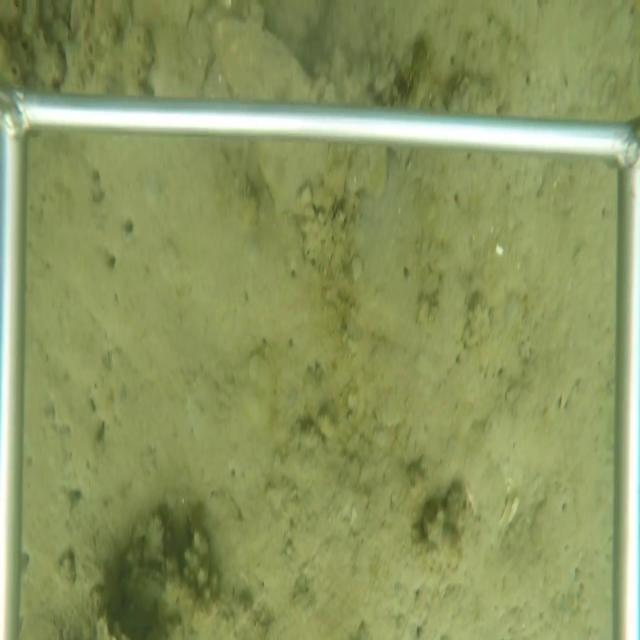Oyster-Closed: (406, 60, 435, 107)
Oyster-Indeterminate: (212, 15, 330, 214)
